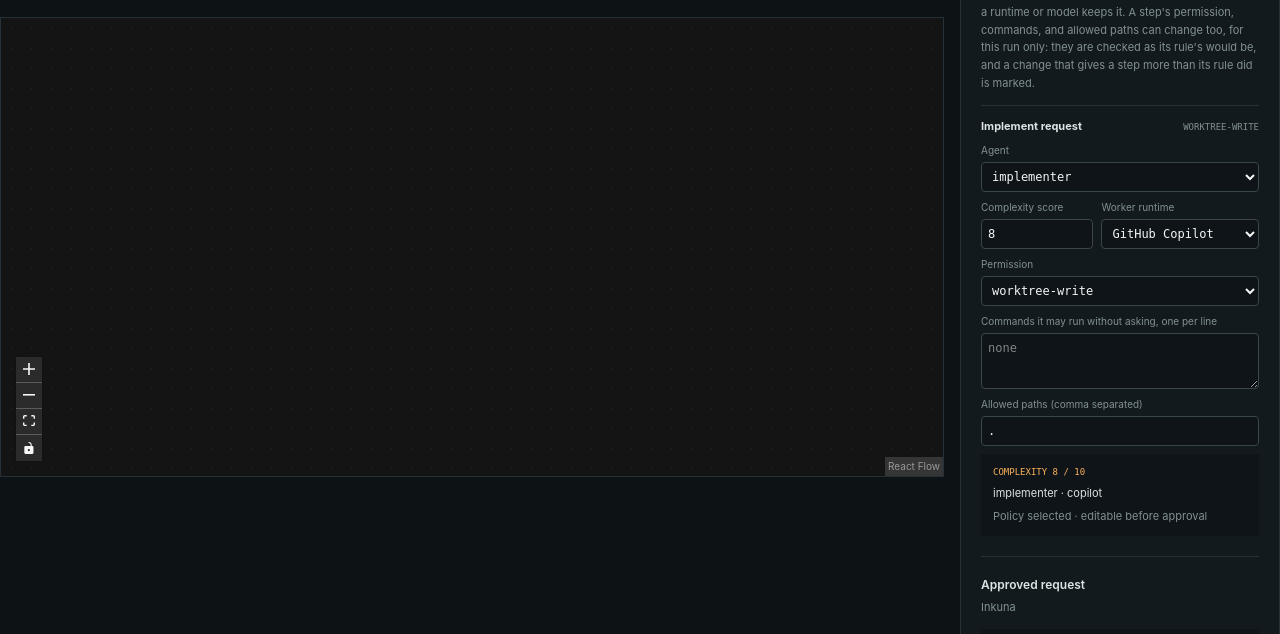
WorkflowView › keeps typed commands Go refuses beside its reason, and holds approval
(page scrolled)
Type "sh -c make" into the text box named "Commands for Implement request".
click(1120, 360); type("sh -c make")  # box [981, 332, 1259, 388]
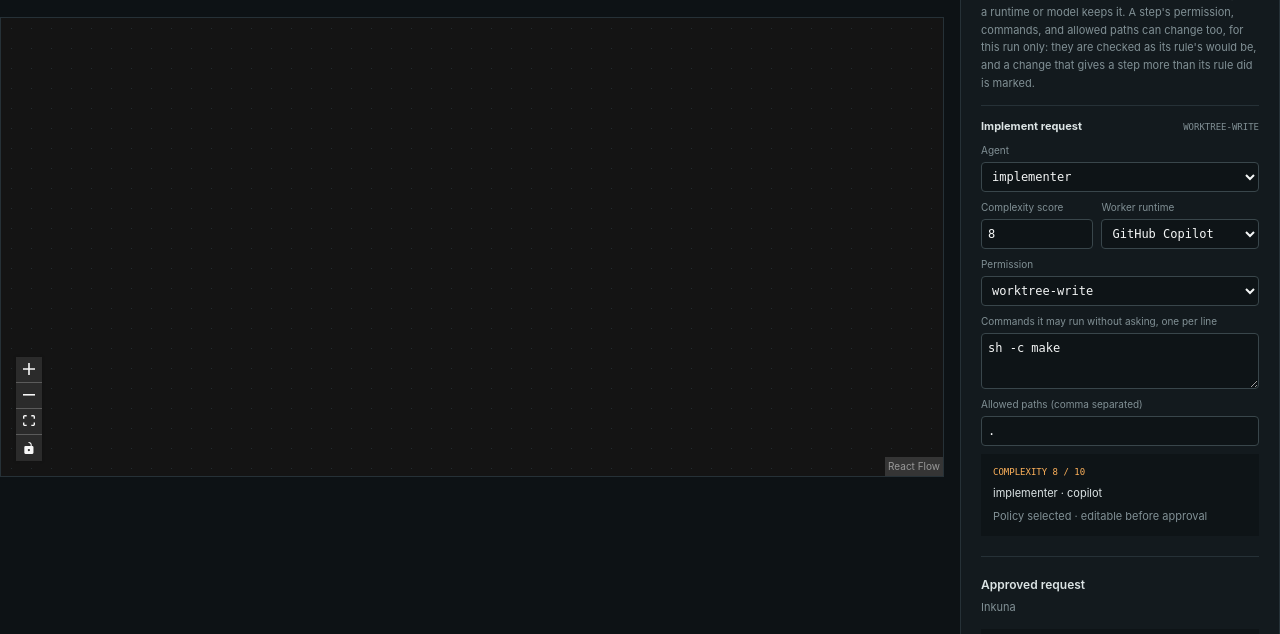
Leave the text box named "Commands for Implement request", box [981, 332, 1259, 388]
(page scrolled)
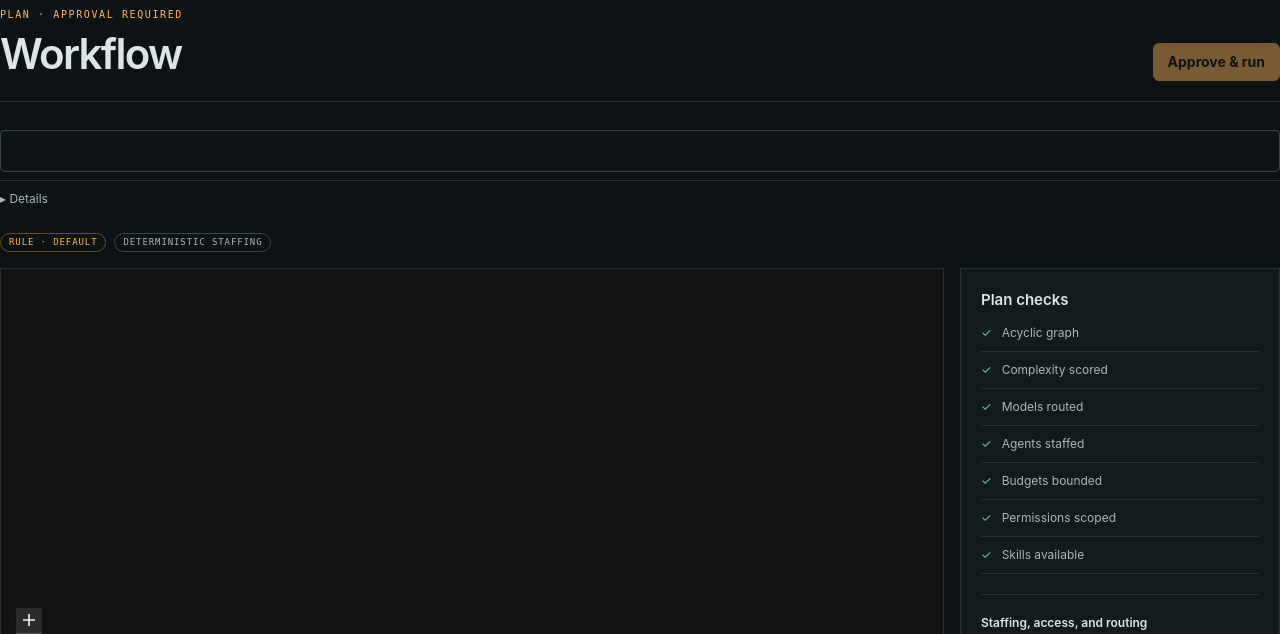
Now the button "Approve & run" is disabled, box [1152, 42, 1279, 80]
